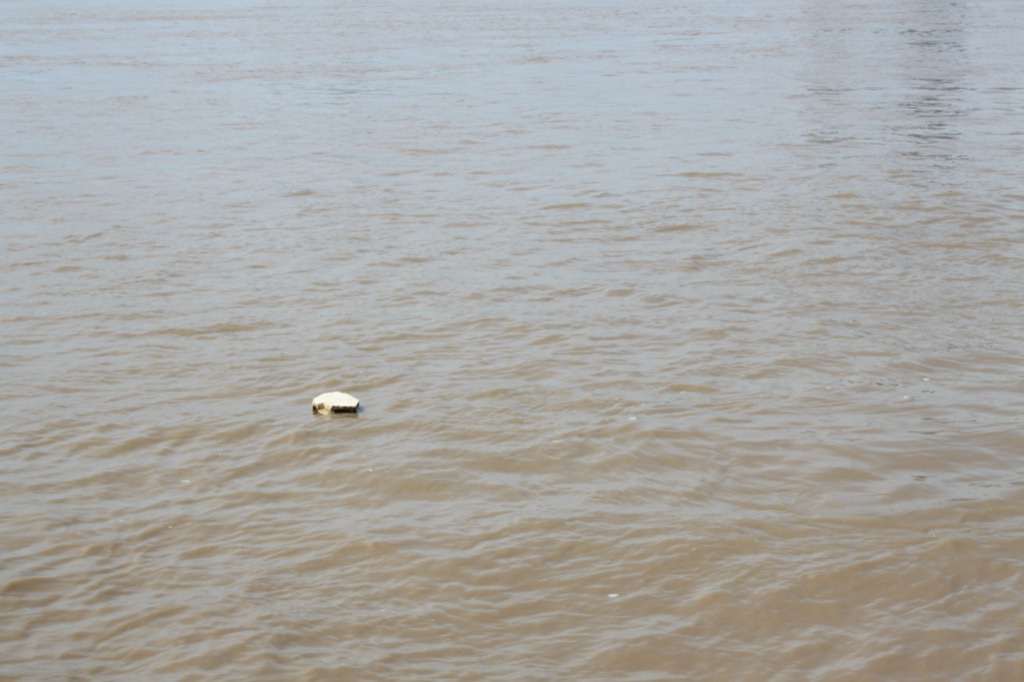plastic: (294, 380, 371, 445), (915, 363, 942, 390), (603, 585, 624, 605), (895, 386, 917, 405), (622, 410, 645, 427)
